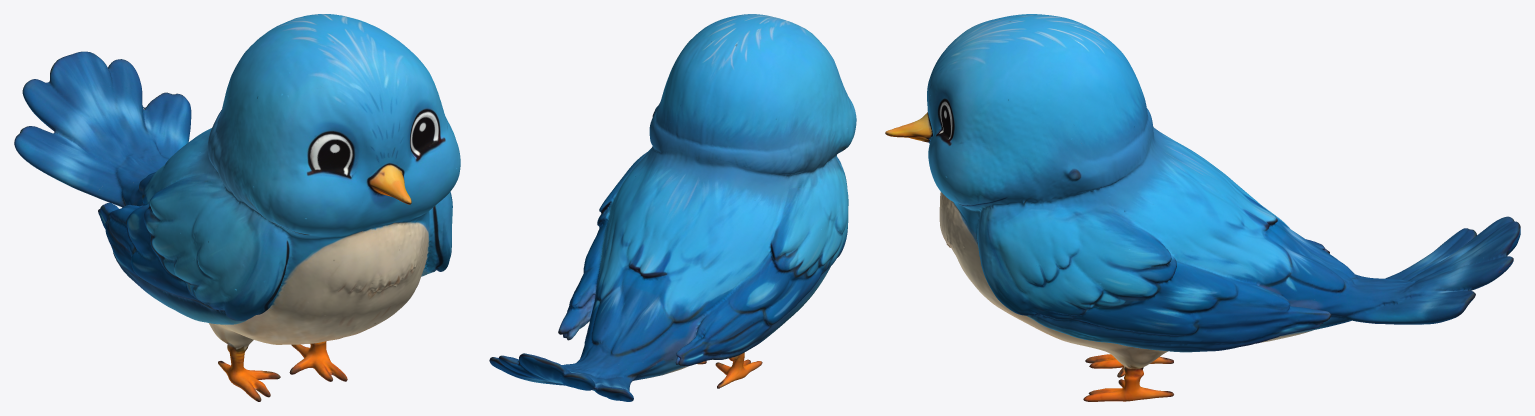
File: pet_bird_stand.glb
The picture shows the model from 3 angles, left to right: view 1: azimuth 30°, elevation 25°; view 2: azimuth 150°, elevation 25°; view 3: azimuth 270°, elevation 25°; orthographic projection. The views are drawn at different scales.
Parts seen in each view (by area): view 1: Mesh_0.033; view 2: Mesh_0.033; view 3: Mesh_0.033.
Part boxes in pixels (bbox=[...]): Mesh_0.033: bbox=[14, 14, 460, 401]; Mesh_0.033: bbox=[489, 14, 856, 401]; Mesh_0.033: bbox=[885, 14, 1520, 401].
Size of the model in its own units: 0.8441 by 1.25 by 2.
1 material, 1 textured.
